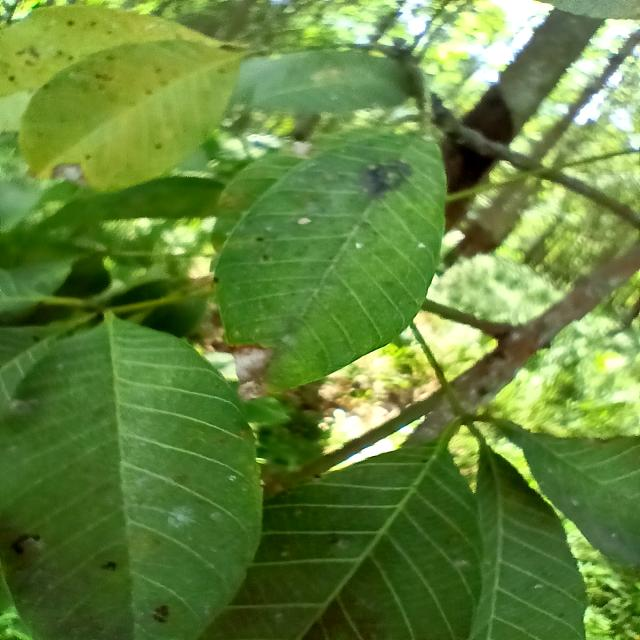Colletotrichum: (213, 277, 219, 283), (257, 238, 263, 242)
Leaf-Blight: (227, 344, 275, 402)
